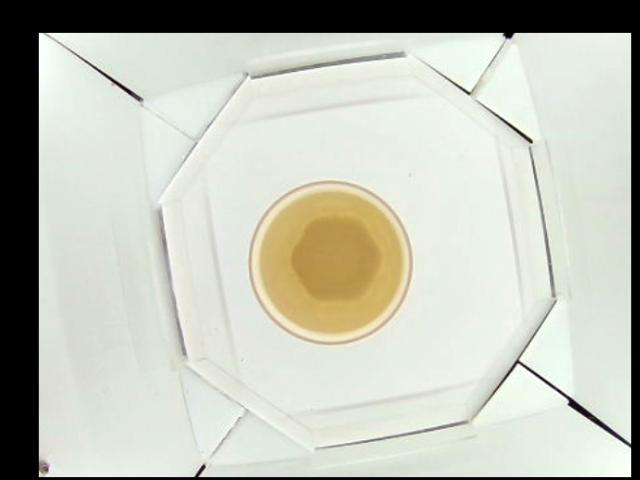Cup: (247, 180, 412, 342)
